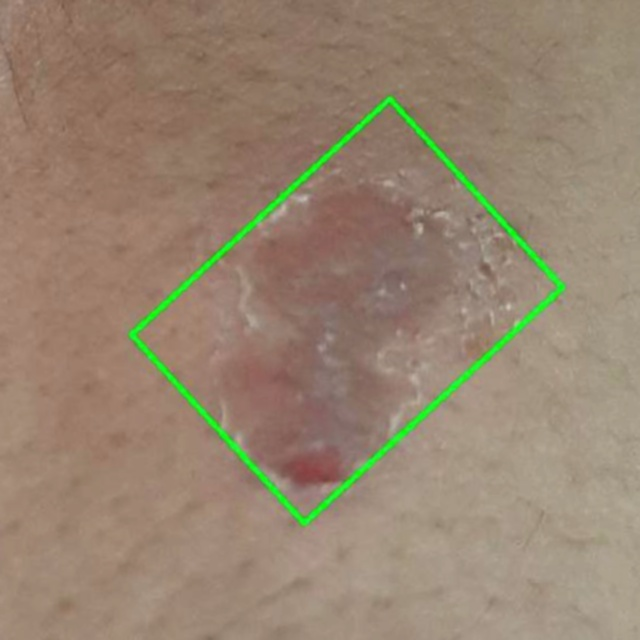Tinea Corporis: (131, 98, 562, 523)
